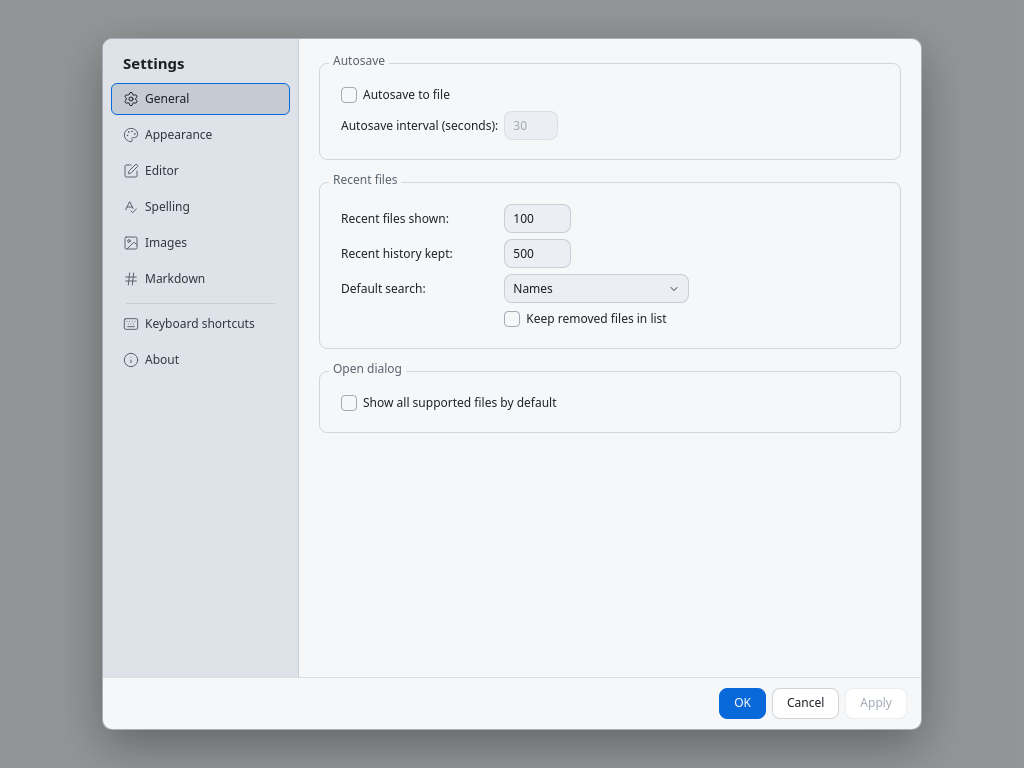
Test: SettingsDialogView pages › enables Apply for a change kept in the dialog's state, such as the accent colour
Click the tab "Appearance": (200, 135) x1=111 y1=119 x2=290 y2=151
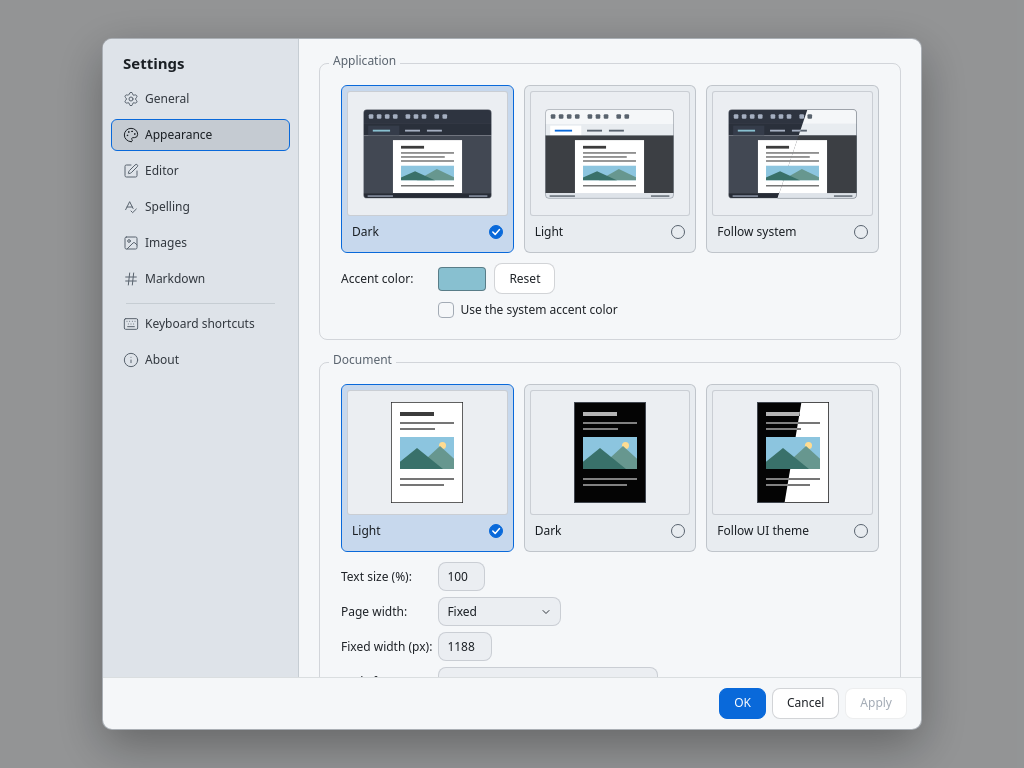
Click the checkbox labelled "Use the system accent color": (446, 310) x1=438 y1=302 x2=454 y2=318
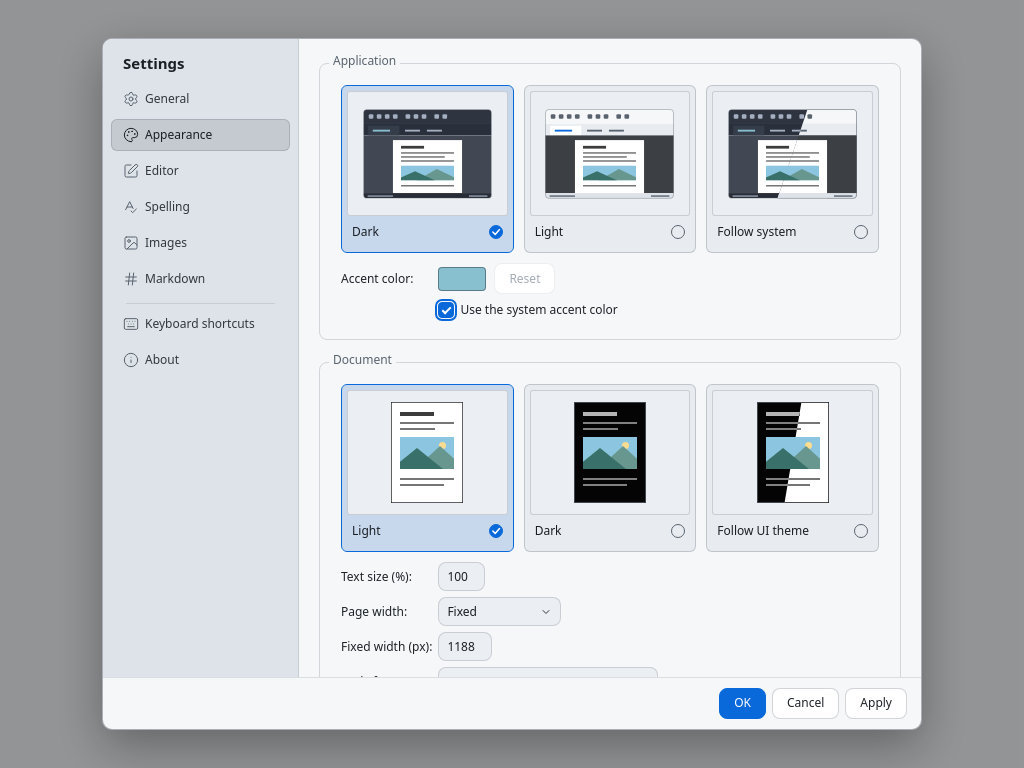
Result: the button "Apply" is enabled at x1=845 y1=688 x2=907 y2=719
